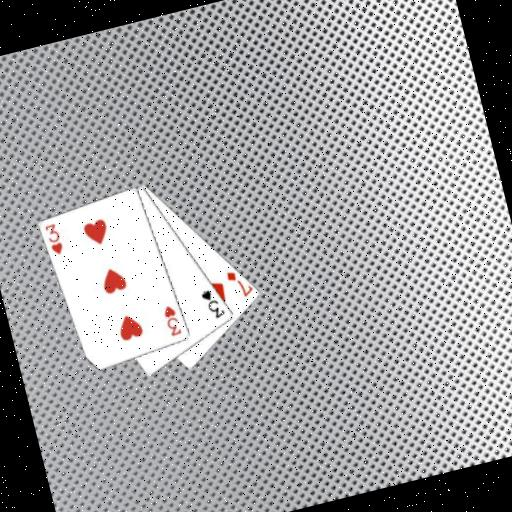3H: (42, 220, 67, 259), (160, 301, 184, 339)
3S: (197, 284, 228, 323)
7D: (222, 264, 255, 302)
